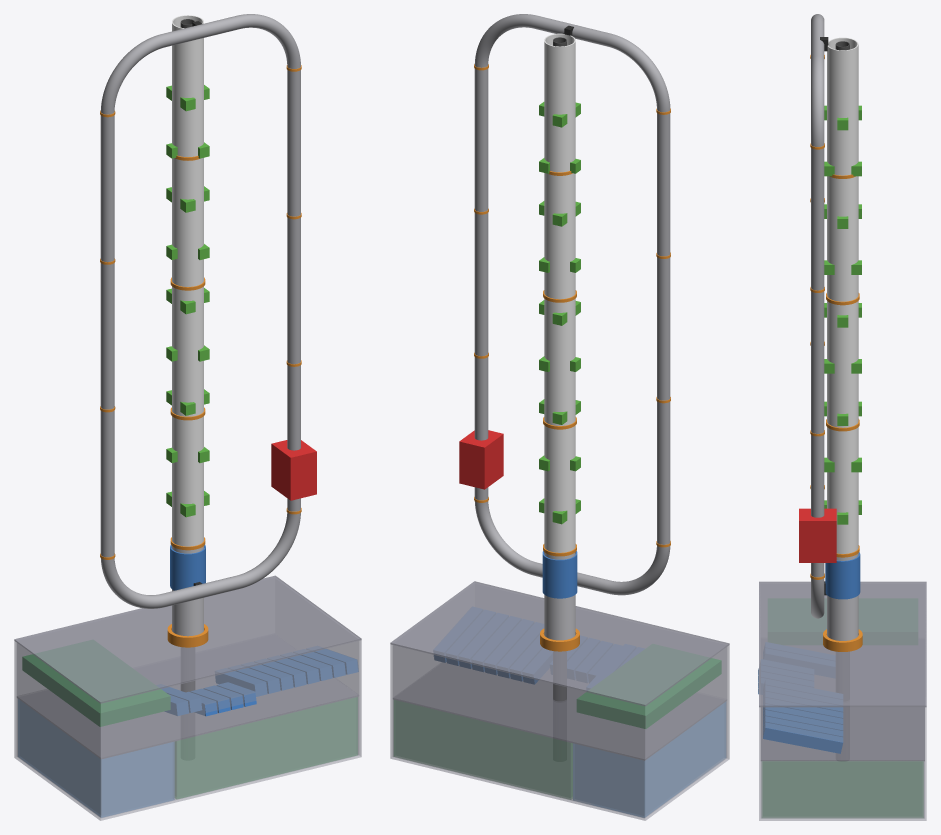
The picture shows the model from 3 angles, left to right: view 1: azimuth 30°, elevation 25°; view 2: azimuth 150°, elevation 25°; view 3: azimuth 270°, elevation 25°; orthographic projection. The views are drawn at different scales.
Visible parts, largest first — view 1: tank, lid, track_loop, growing_pipe, nutrient_bucket, clean_bucket, shelf, seedling_tray, store_rows_sloped, pod_sites, cart_low_on_B, sleeve (+3 smaller); view 2: tank, lid, track_loop, growing_pipe, shelf, nutrient_bucket, clean_bucket, store_rows_sloped, seedling_tray, pod_sites, cart_low_on_B, cleanout_section (+2 smaller); view 3: tank, lid, growing_pipe, nutrient_bucket, track_loop, store_rows_sloped, shelf, seedling_tray, pod_sites, cart_low_on_B, cleanout_section, sleeve (+3 smaller).
Boxes of the visible parts, x1,y1,x2,y2 form: tank: (14, 597, 361, 820); lid: (14, 575, 361, 703); track_loop: (100, 14, 300, 608); growing_pipe: (172, 15, 203, 546); nutrient_bucket: (175, 697, 357, 798); clean_bucket: (18, 699, 174, 817); shelf: (17, 676, 358, 758); seedling_tray: (22, 640, 170, 726); store_rows_sloped: (157, 646, 358, 716); pod_sites: (166, 85, 209, 517); cart_low_on_B: (271, 440, 316, 500); sleeve: (170, 545, 205, 590); tank: (390, 638, 729, 820); lid: (390, 581, 729, 706); track_loop: (474, 14, 670, 595); growing_pipe: (544, 33, 575, 552); shelf: (393, 662, 726, 760); nutrient_bucket: (394, 700, 572, 799); clean_bucket: (573, 702, 725, 817); store_rows_sloped: (434, 607, 643, 690); seedling_tray: (577, 644, 721, 728); pod_sites: (539, 102, 580, 524); cart_low_on_B: (459, 430, 503, 489); cleanout_section: (544, 552, 575, 640); tank: (759, 595, 926, 820); lid: (759, 581, 926, 707); growing_pipe: (827, 37, 858, 553); nutrient_bucket: (762, 761, 923, 817); track_loop: (811, 14, 824, 618); store_rows_sloped: (758, 642, 843, 753); shelf: (760, 707, 924, 760); seedling_tray: (768, 599, 917, 644); pod_sites: (824, 105, 861, 524); cart_low_on_B: (799, 508, 836, 562); cleanout_section: (827, 553, 858, 640); sleeve: (825, 552, 860, 599).
Bounding box in the file's own units: 700 × 1900 × 402.
